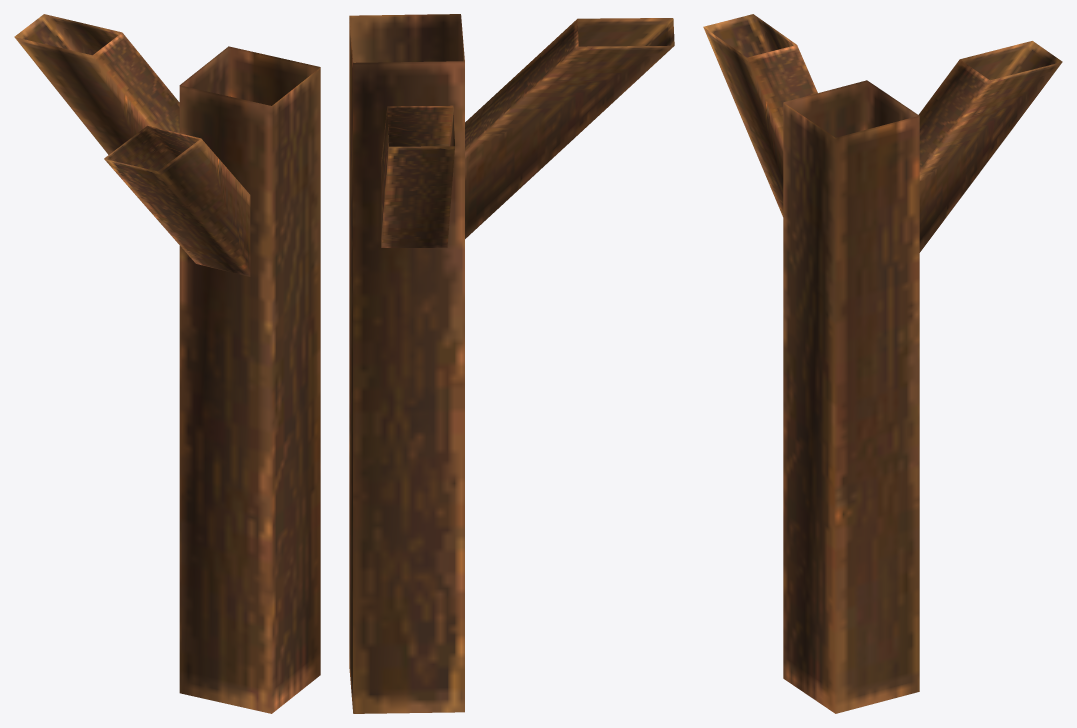
File: SWORDLIGHT20_JAILPLATSUPPORT47.fbx
3 views of the same model, side by side, from view 1: azimuth 30°, elevation 25°; view 2: azimuth 150°, elevation 25°; view 3: azimuth 270°, elevation 25° (orthographic). The views are drawn at different scales.
Visible parts, largest first — view 1: SWORDLIGHT20_JAILPLATSUPPORT47; view 2: SWORDLIGHT20_JAILPLATSUPPORT47; view 3: SWORDLIGHT20_JAILPLATSUPPORT47.
Boxes of the visible parts, x1=… form: SWORDLIGHT20_JAILPLATSUPPORT47: x1=14, y1=14, x2=320, y2=713; SWORDLIGHT20_JAILPLATSUPPORT47: x1=349, y1=14, x2=674, y2=713; SWORDLIGHT20_JAILPLATSUPPORT47: x1=703, y1=14, x2=1062, y2=713.
Bounding box in the file's own units: 11520 × 25856 × 14538.
1 material, 1 textured.
